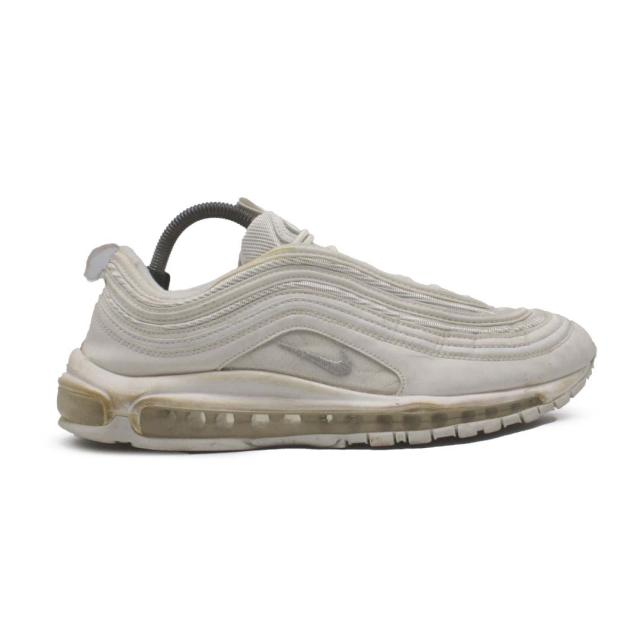heel: (84, 246, 151, 373)
midsole: (54, 344, 592, 454)
uppersole: (135, 209, 594, 391)
